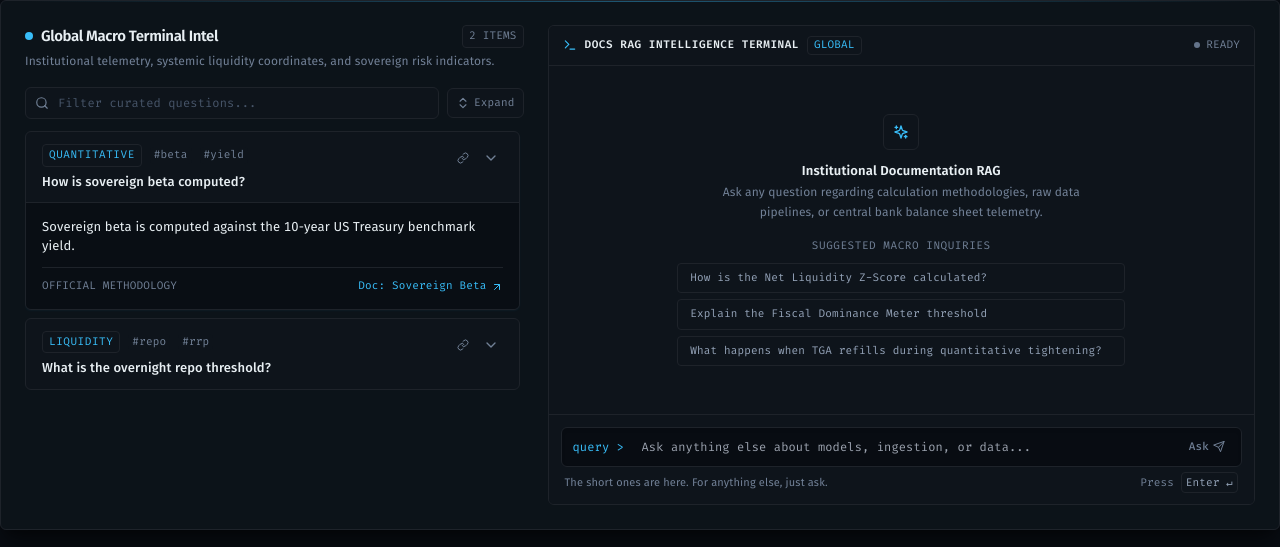
InfiniteFAQ Component › filters curated items via search input
The image size is (1280, 547).
In the field with placeholder "Filter curated questions...": (232, 103) [25,87,439,119], type "beta"
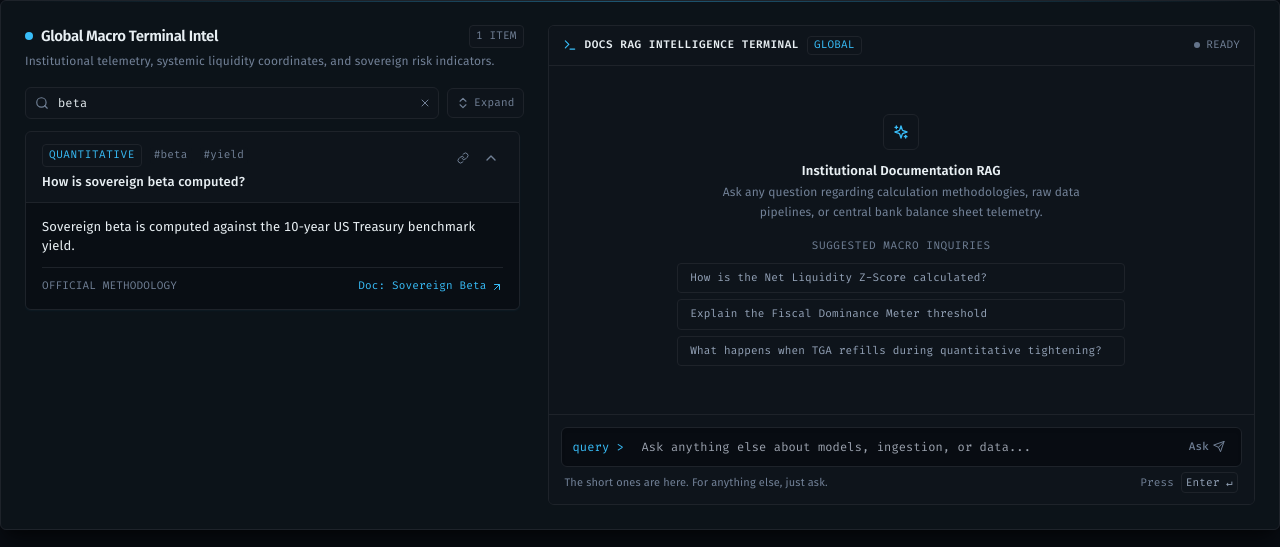
Expected: the heading "How is sovereign beta computed?" is shown, [42,174,245,188]
Now the button "What is the overnight repo threshold?" is gone
